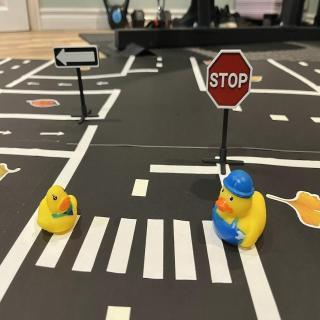duck_regular: (38, 185, 80, 237)
duck_specialty: (214, 171, 268, 251)
road_crosswalk: (31, 213, 237, 287)
road_oneway: (38, 129, 66, 139), (95, 79, 112, 89), (1, 128, 15, 140), (58, 81, 76, 89), (26, 81, 44, 88)
sign_oneway_left: (55, 47, 101, 69)
sign_stop: (207, 51, 253, 108)
